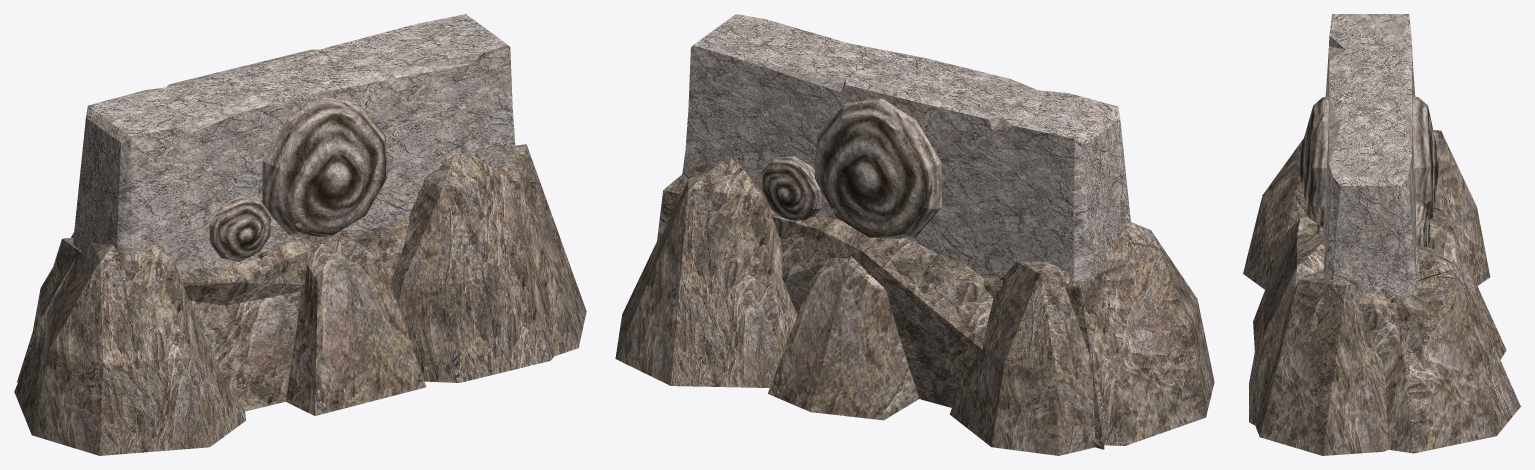
File: thm_dath_mtn_clan_strong_fence_s01_l1.fbx
3 views of the same model, side by side, from view 1: azimuth 30°, elevation 25°; view 2: azimuth 150°, elevation 25°; view 3: azimuth 270°, elevation 25° (orthographic). The views are drawn at different scales.
Parts seen in each view (by area): view 1: mesh_node; view 2: mesh_node; view 3: mesh_node.
Boxes of the visible parts, <box> form: mesh_node: <box>14,14,586,455</box>; mesh_node: <box>615,14,1214,455</box>; mesh_node: <box>1243,14,1520,455</box>.
Size of the model in its own units: 11.15 by 5.54 by 5.59.
